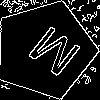M: (20, 25, 83, 86)
